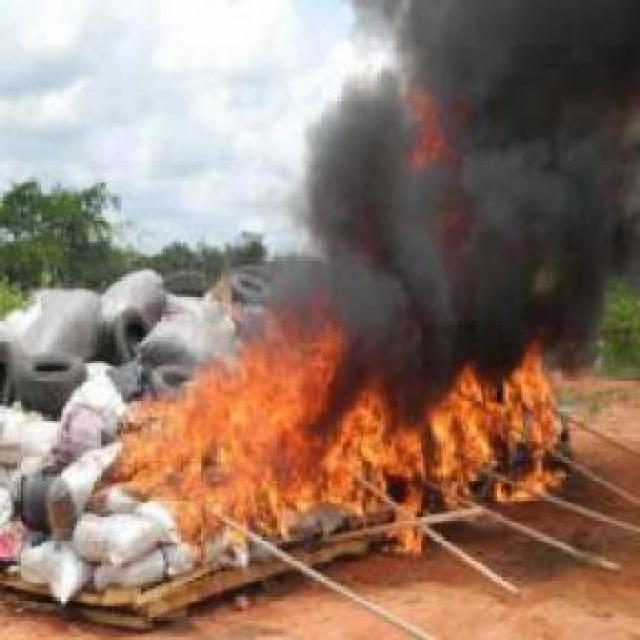Fire: (122, 344, 568, 556)
Smoke: (281, 0, 640, 340)
